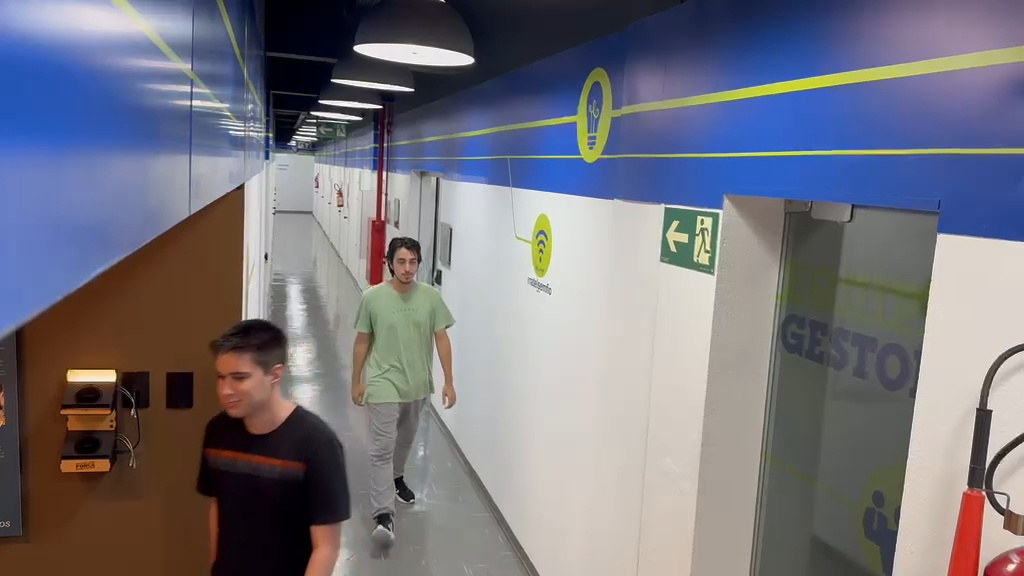person: (196, 318, 352, 574), (350, 236, 457, 535)
